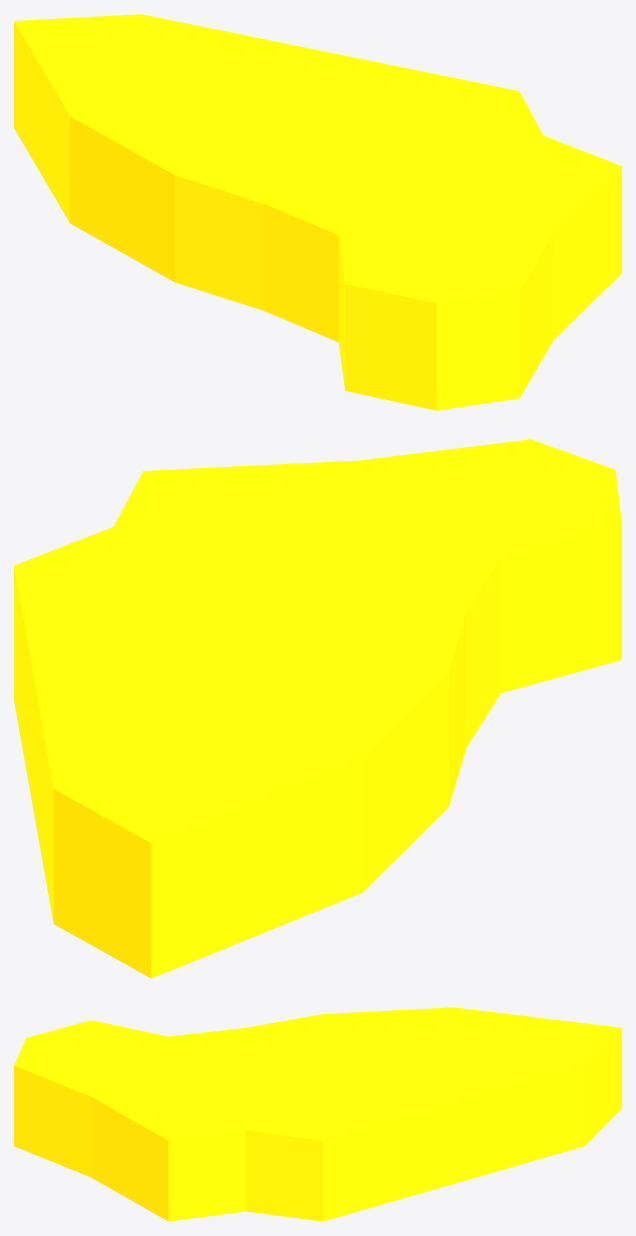
File: LavaUnTextured.fbx
3 views of the same model, one above another, from view 1: azimuth 30°, elevation 25°; view 2: azimuth 150°, elevation 25°; view 3: azimuth 270°, elevation 25° (orthographic). The views are drawn at different scales.
Visible parts, largest first — view 1: Cube; view 2: Cube; view 3: Cube.
Boxes of the visible parts, x1,y1,x2,y2 form: Cube: (14, 14, 621, 410); Cube: (14, 439, 621, 978); Cube: (14, 1007, 621, 1221).
Size of the model in its own units: 3.54 by 1 by 6.82.
